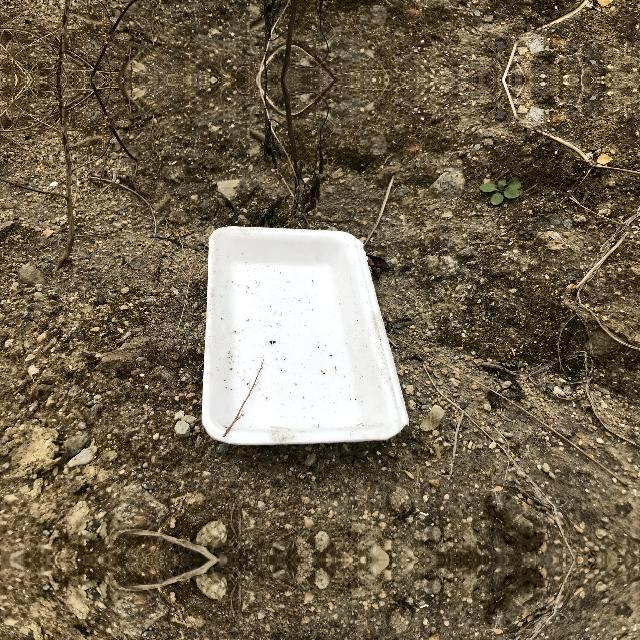Styrofoam: (200, 224, 410, 446), (202, 226, 409, 445)
